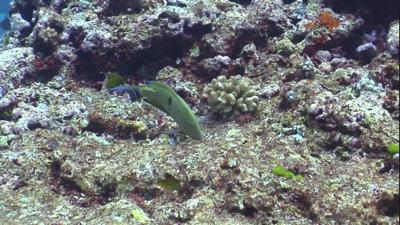Acanthuridae -Surgeonfishes-: (100, 71, 214, 147)
